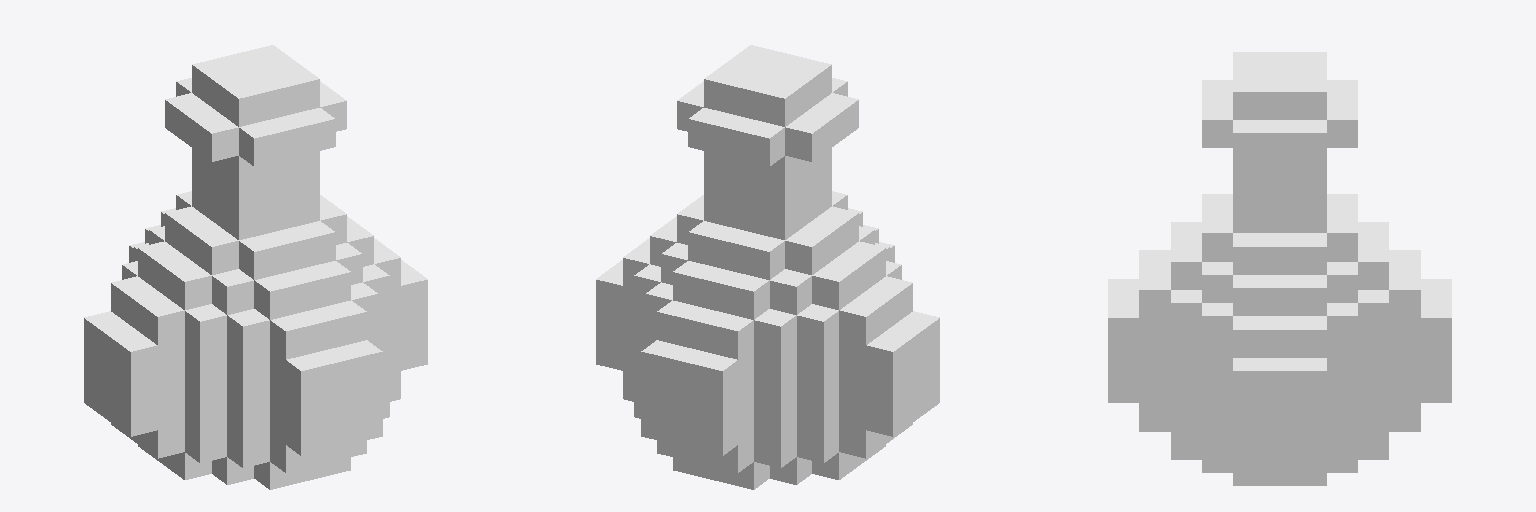
Rendered from Butilka-0-BUTILKA.obj.
3 renders of one model, left to right at view 1: azimuth 30°, elevation 25°; view 2: azimuth 150°, elevation 25°; view 3: azimuth 270°, elevation 25°, orthographic.
Parts seen in each view (by area): view 1: BUTILKA; view 2: BUTILKA; view 3: BUTILKA.
Part boxes in pixels (x1,y1,x2,y2): BUTILKA: (84, 45, 427, 489); BUTILKA: (596, 45, 939, 489); BUTILKA: (1108, 52, 1451, 485).
Bounding box in the file's own units: 1.1 × 1.3 × 1.1.